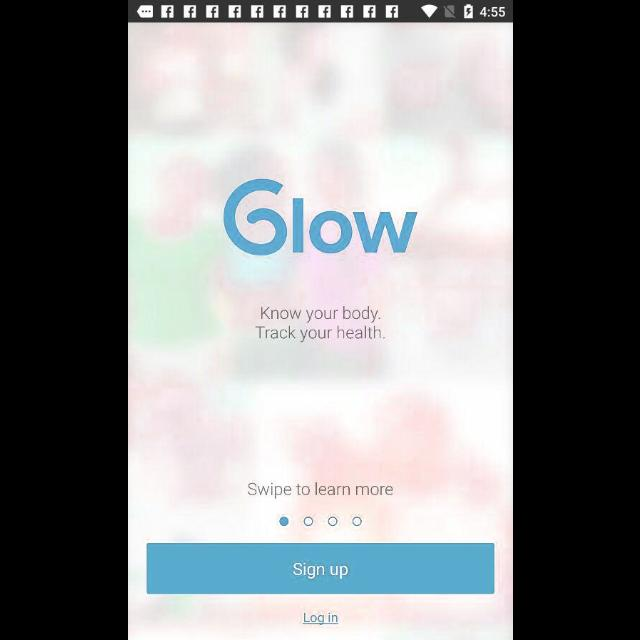image: (222, 178, 418, 256)
pageindicator: (278, 516, 362, 528)
text: (254, 306, 386, 342), (247, 482, 393, 500), (302, 612, 338, 626)
textbutton: (146, 544, 494, 594)
uppertaskbar: (128, 1, 512, 23)
